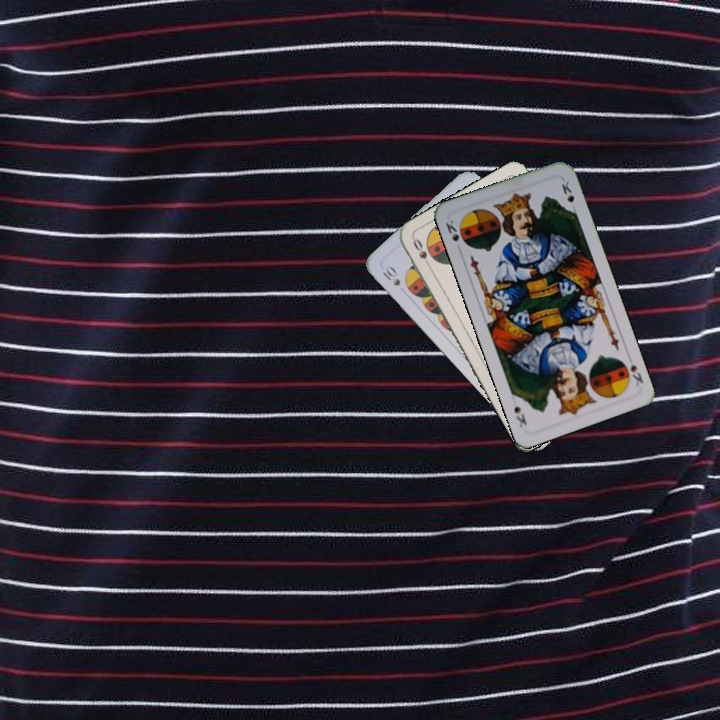S10: (378, 261, 403, 289)
SK: (623, 352, 646, 389), (441, 216, 462, 244)
SO: (409, 234, 434, 272)
